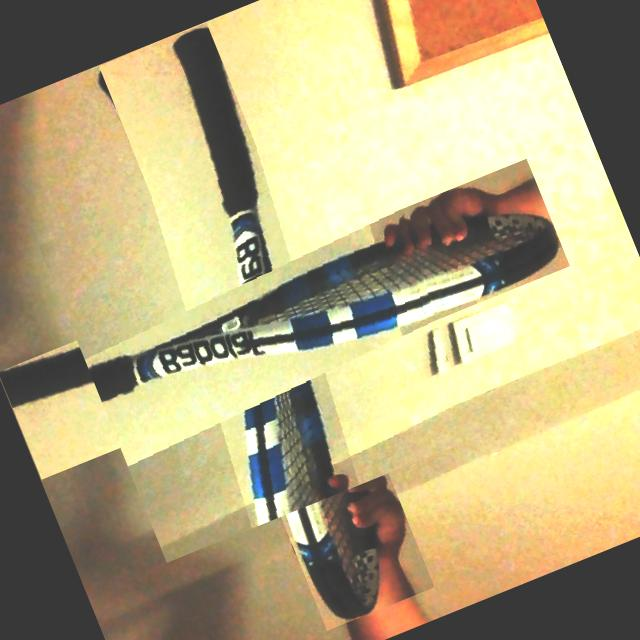TennisRacket: (29, 90, 502, 562)
